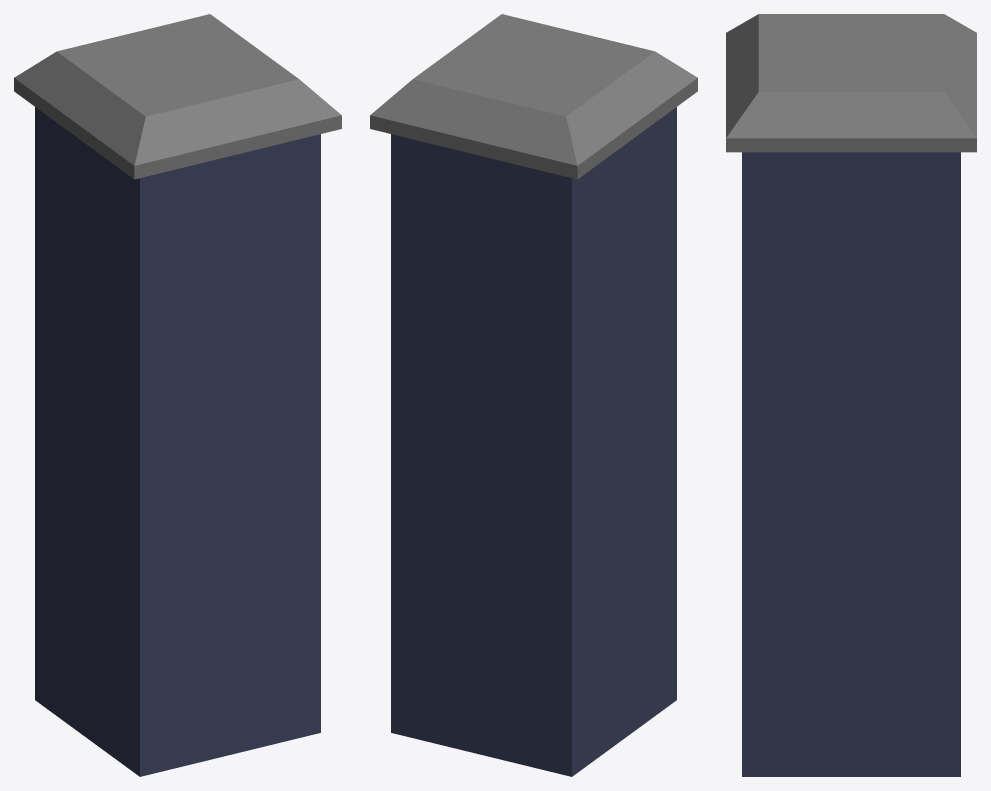
The model's file is SM_pillar_wall_policestation.fbx.
The picture shows the model from 3 angles, left to right: view 1: azimuth 30°, elevation 25°; view 2: azimuth 150°, elevation 25°; view 3: azimuth 270°, elevation 25°; orthographic projection. The views are drawn at different scales.
Visible parts, largest first — view 1: Box277; view 2: Box277; view 3: Box277.
Part boxes in pixels (x1,y1,x2,y2): Box277: [14, 14, 341, 776]; Box277: [370, 14, 697, 776]; Box277: [726, 14, 976, 776].
Bounding box in the file's own units: 31.51 × 94.53 × 31.68.
